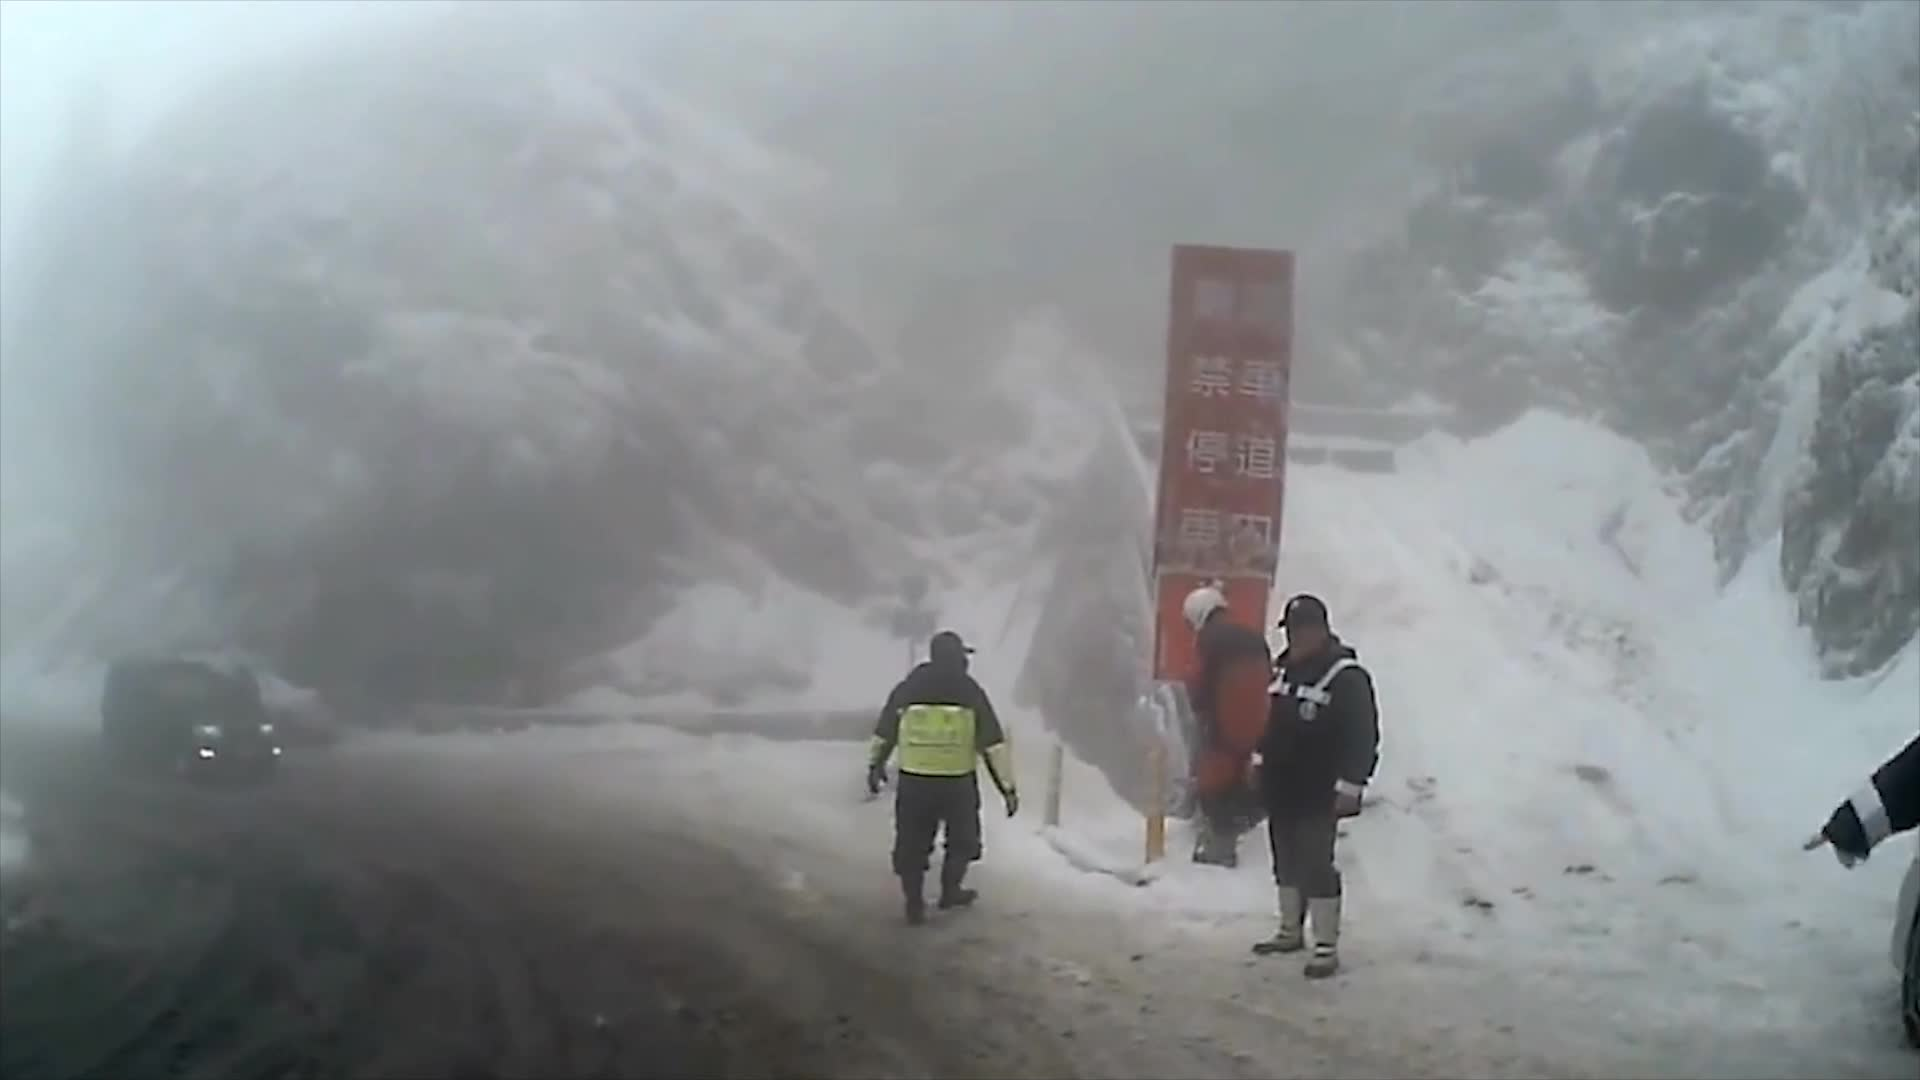pedestrian: (1254, 590, 1381, 985), (868, 624, 1026, 921), (1168, 591, 1279, 846)
vehicle: (103, 650, 285, 784)
